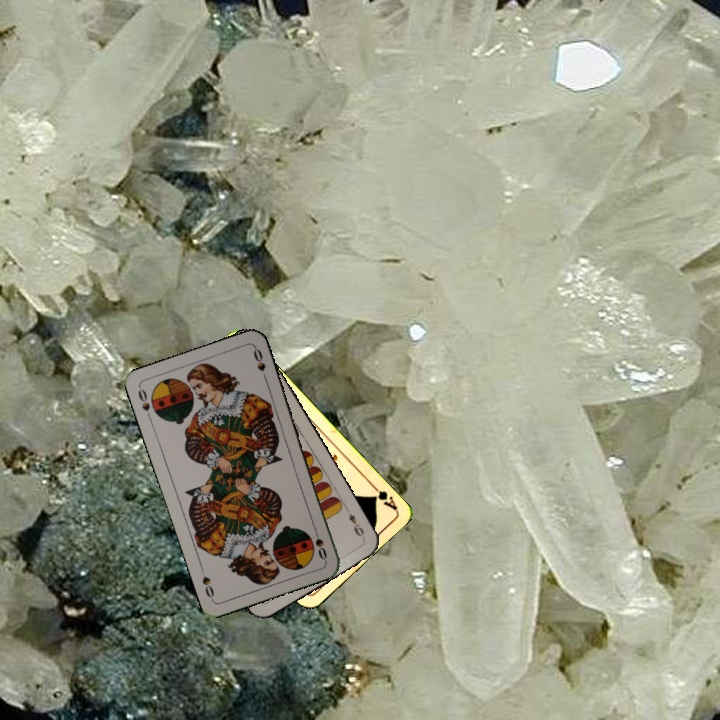E9: (344, 509, 367, 541)
GA: (367, 479, 399, 513)
SO: (309, 523, 329, 563), (134, 385, 154, 423)
